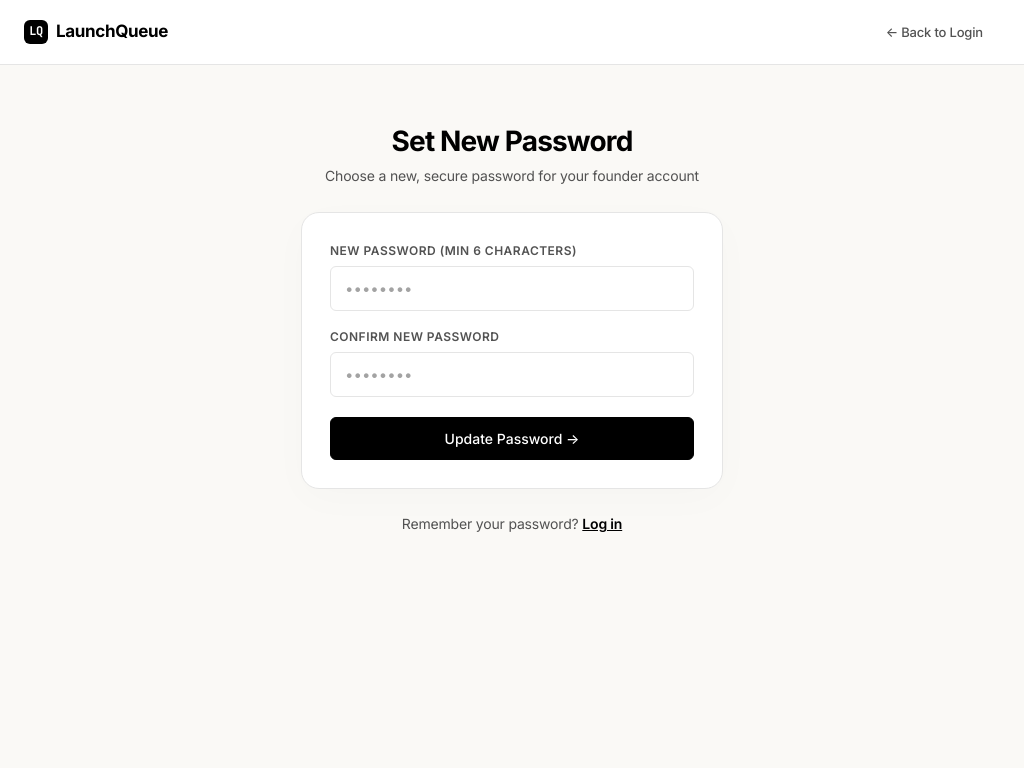
Scenario: ResetPassword Page › displays server error when token is invalid or expired
The image size is (1024, 768).
Type "brandnewpassword123" into the password field with placeholder "••••••••" below "New Password (min 6 characters)" at (512, 288), box [330,266,694,311]
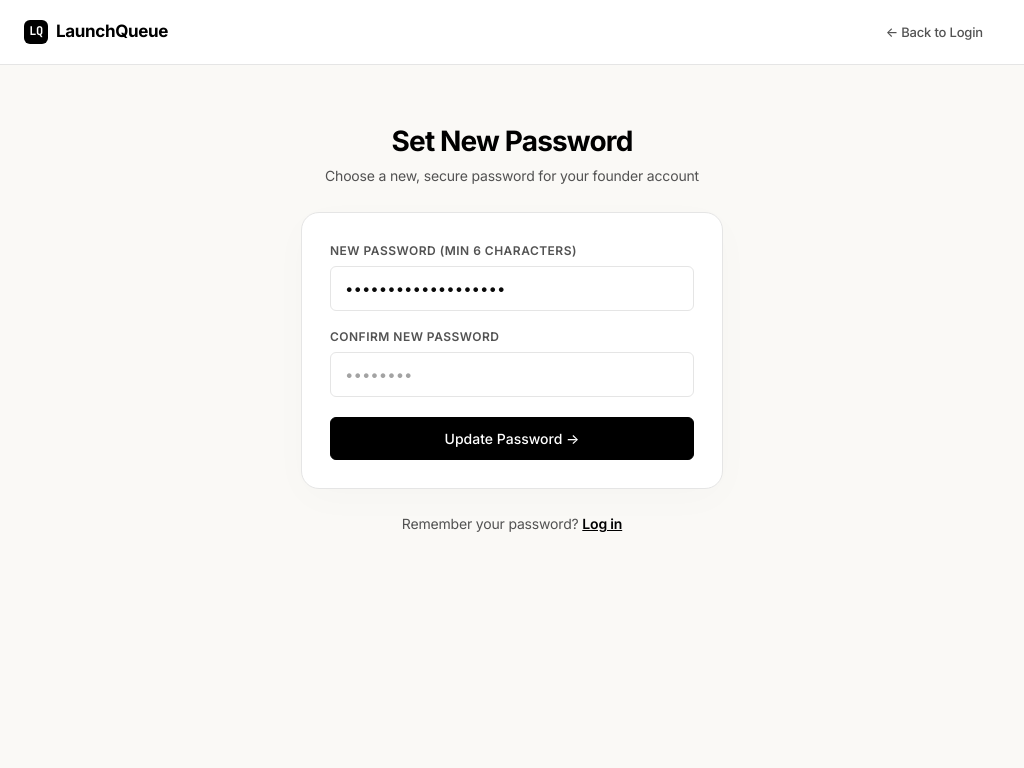
Type "brandnewpassword123" into the password field with placeholder "••••••••" at (512, 374), box [330,352,694,397]
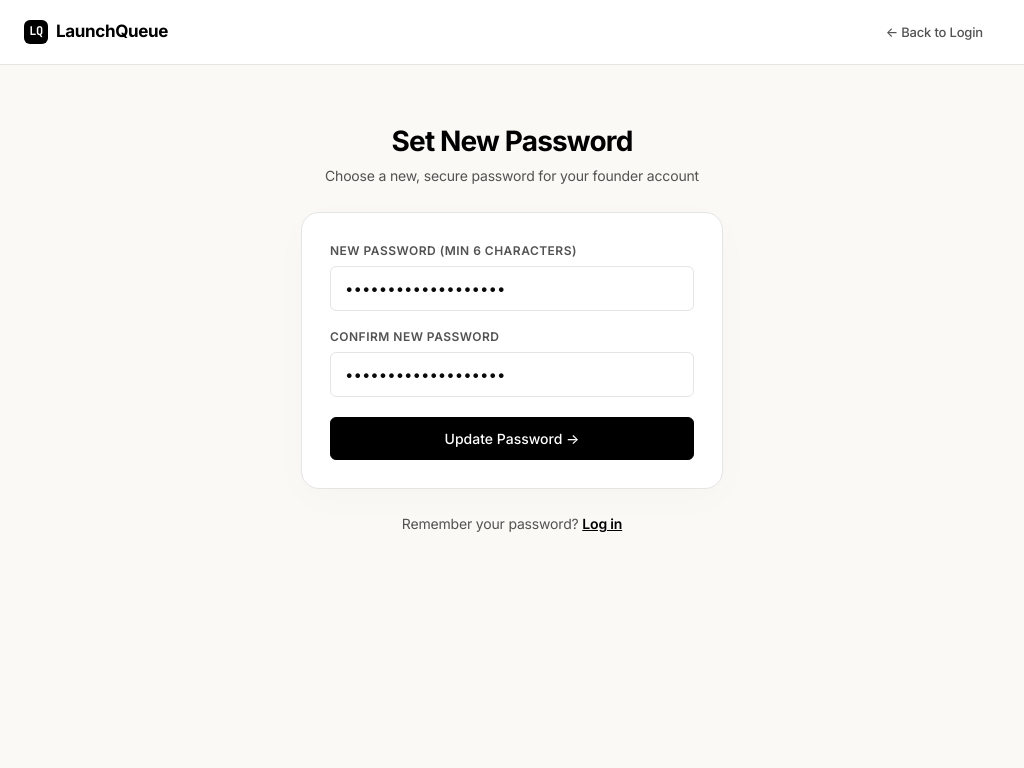
Click the button "Update Password →" at (512, 438), box [330,417,694,460]
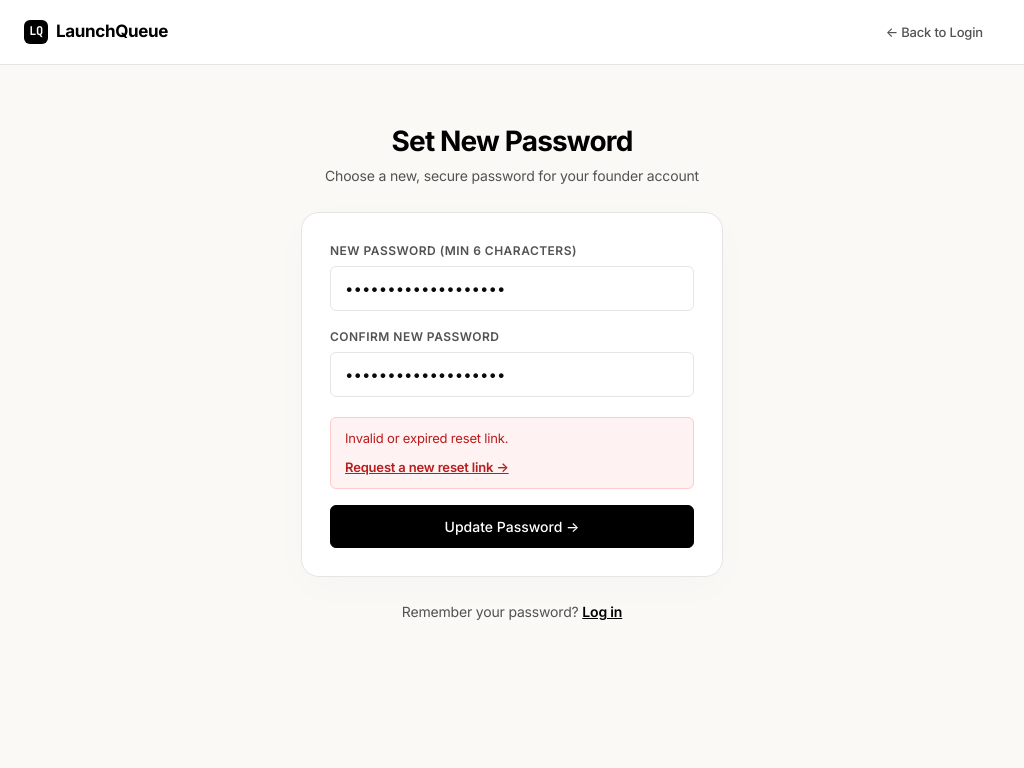
Check: the text "Invalid or expired reset link. Request a new reset link →" is shown, box [330,417,694,489]
Check: the link "Request a new reset link →" is shown, box [345,459,509,475]
